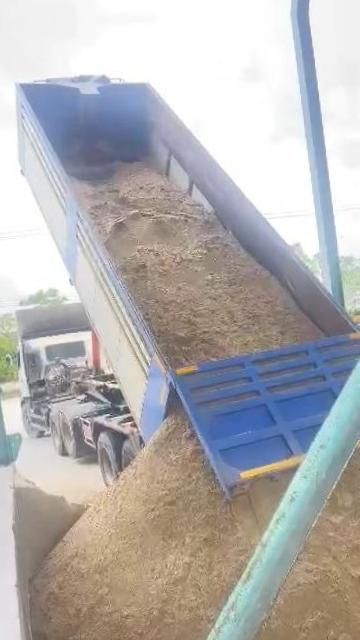sand: (33, 415, 287, 640), (77, 164, 322, 366), (238, 452, 360, 640), (15, 479, 85, 581)
